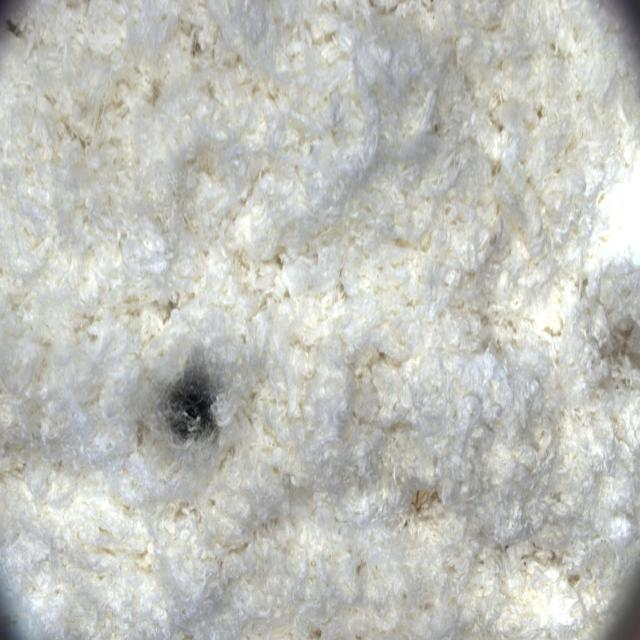dust: (138, 315, 259, 503)
